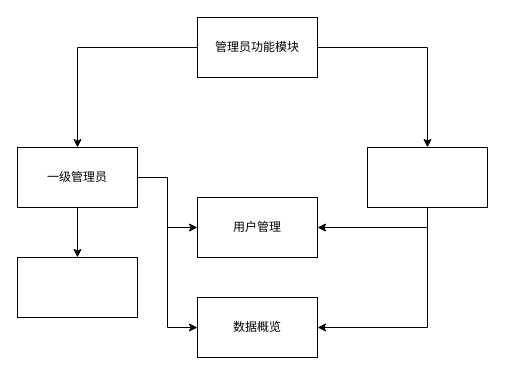
This 505x375 diagram has some shape labels left out. The centre of each missing label's shape, as x and y in pixels:
"二级管理员" goes at pixel 427 177.
"管理二级管理员" goes at pixel 77 287.
